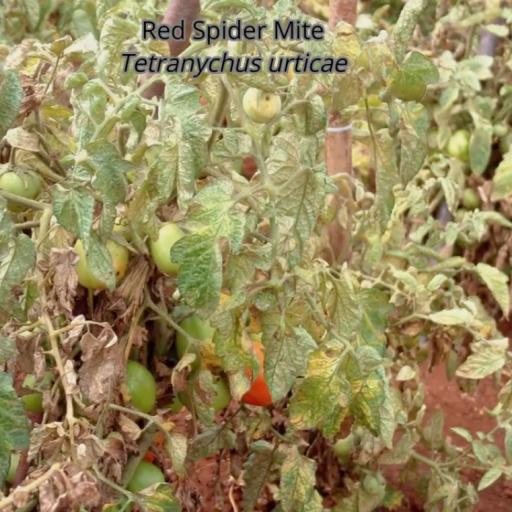Spider Mites: (169, 178, 249, 324), (208, 304, 262, 400), (262, 324, 318, 404), (286, 374, 352, 432), (51, 180, 96, 254), (280, 454, 320, 512)
